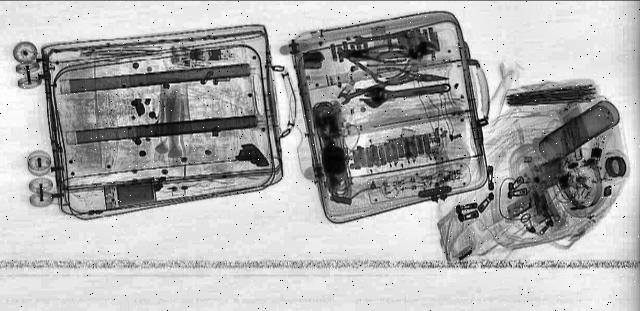Pliers: (373, 66, 453, 90), (340, 45, 410, 64)
Wrench: (331, 70, 427, 106), (355, 78, 459, 108), (348, 41, 447, 65), (350, 30, 414, 46)
